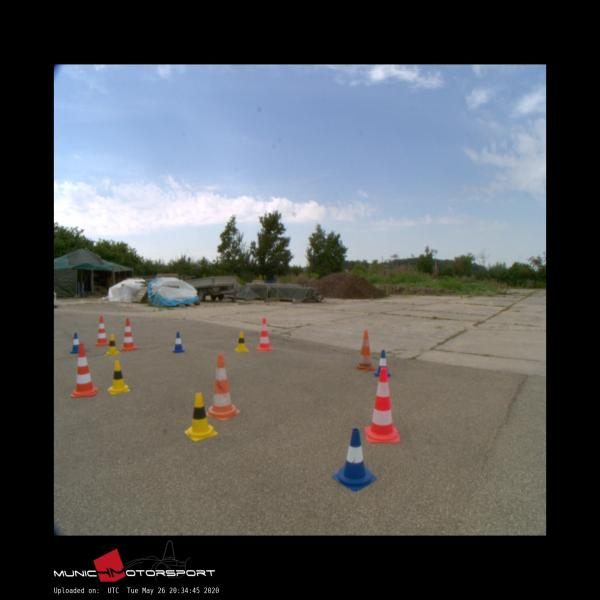blue_cone: (332, 428, 376, 488), (374, 349, 390, 376), (172, 332, 185, 352), (70, 332, 82, 352)
large_orange_cone: (365, 367, 400, 442), (206, 355, 240, 419), (70, 343, 98, 396), (354, 329, 375, 370), (120, 318, 138, 350), (256, 318, 272, 349), (94, 315, 108, 345)
yellow_cone: (185, 392, 217, 440), (108, 360, 129, 393), (105, 333, 120, 355), (234, 332, 248, 352)
